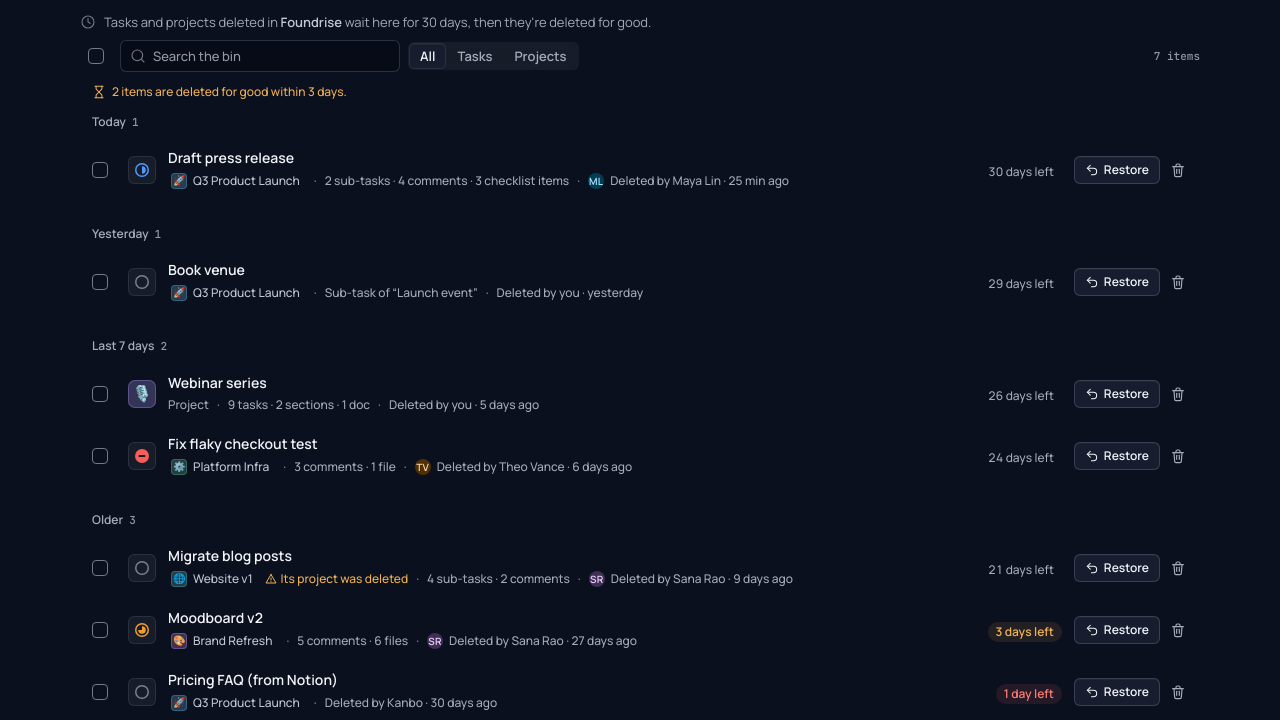
RecycleBin › select all, then restore them together; Escape clears a selection
Expected: the text "Draft press release" is shown, [167, 147, 294, 167]
Step 1. Click the checkbox named "Select “Draft press release”" → (100, 170), box [92, 162, 108, 178]
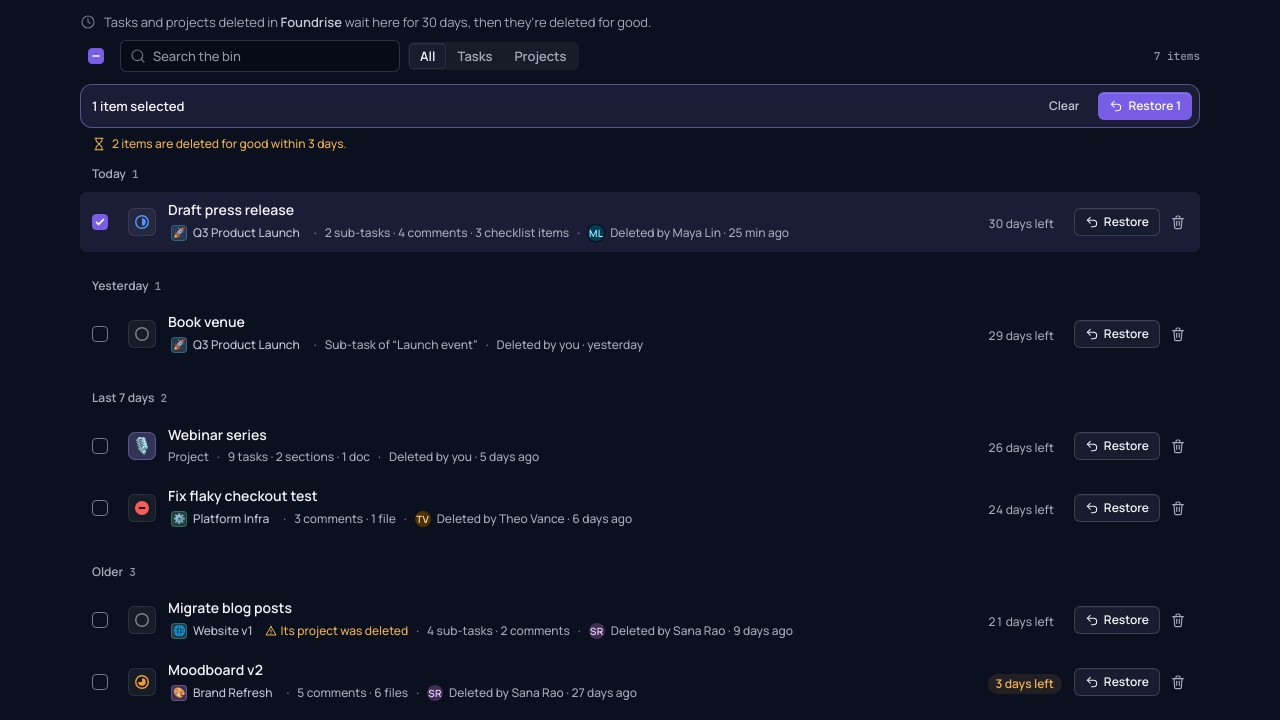
Expected: the text "1 item selected" is shown, [92, 97, 184, 115]
Step 2. Press Escape in the checkbox named "Select “Draft press release”", box [92, 214, 108, 230]
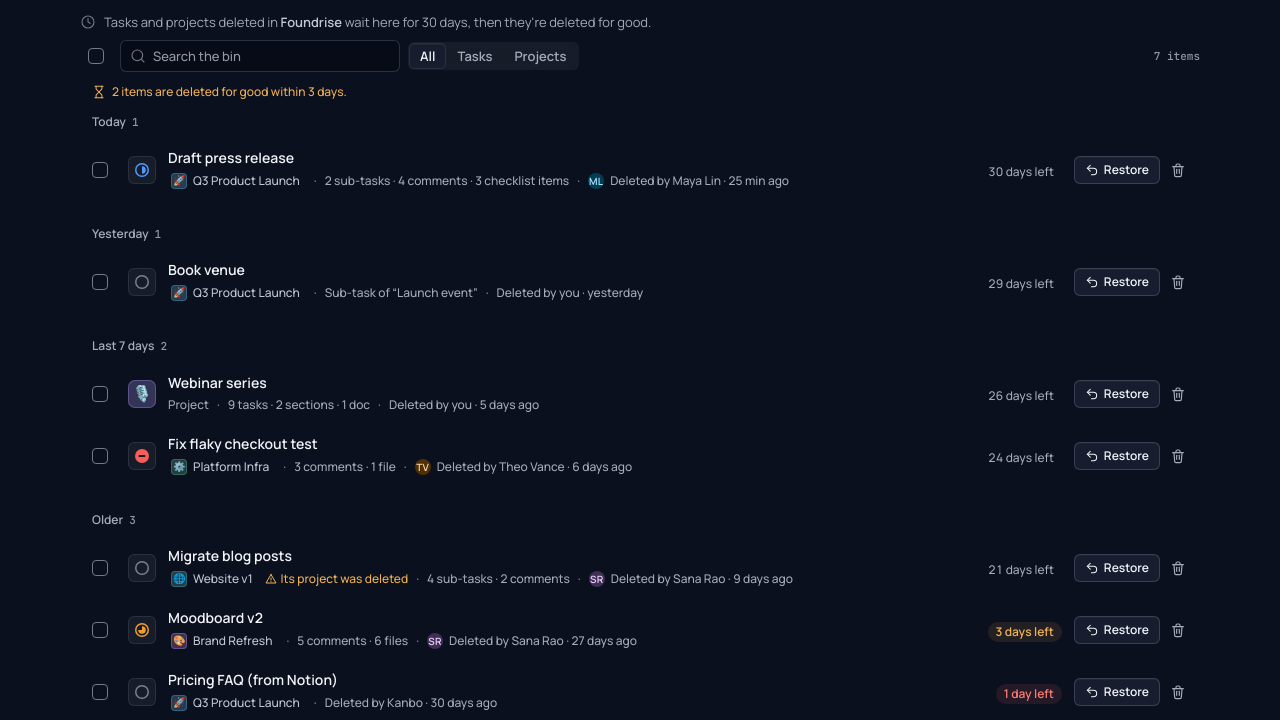
Expected: the text "selected" is gone
Step 3. Click the checkbox named "Select everything in the bin" → (96, 56), box [88, 48, 104, 64]
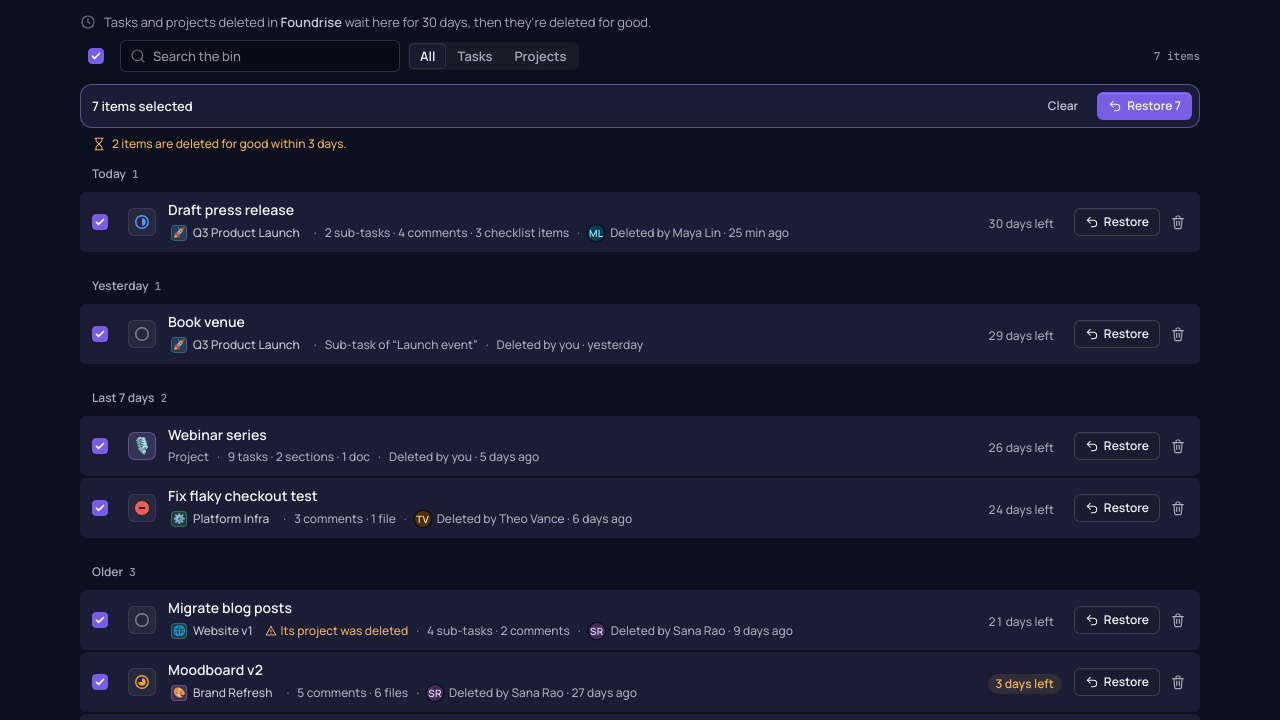
Expected: the text "7 items selected" is shown, [92, 97, 193, 115]
Step 4. Click the button "Restore 7" → (1145, 106), box [1097, 92, 1192, 120]
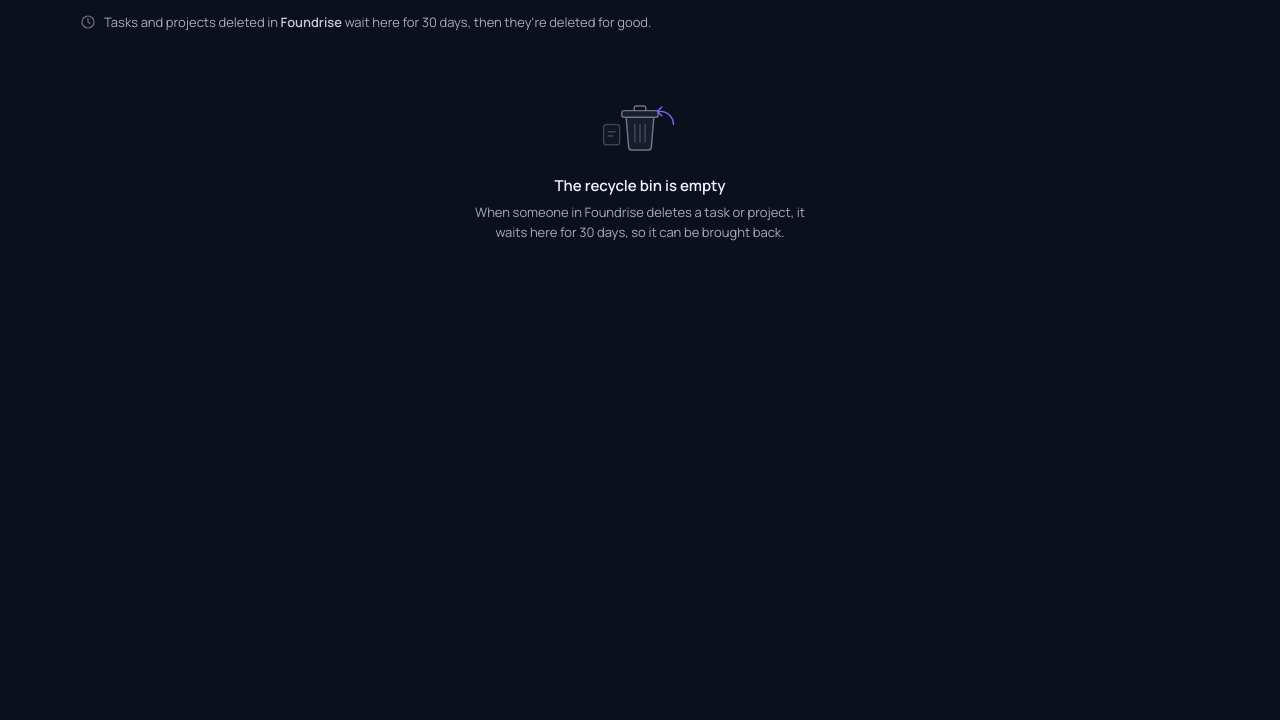
Expected: the text "The recycle bin is empty" is shown, [554, 174, 725, 198]
